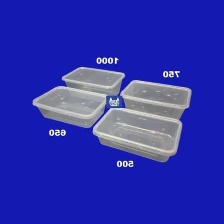plastic_box: (86, 102, 187, 167), (27, 81, 110, 131), (115, 74, 197, 124), (56, 61, 130, 101)
